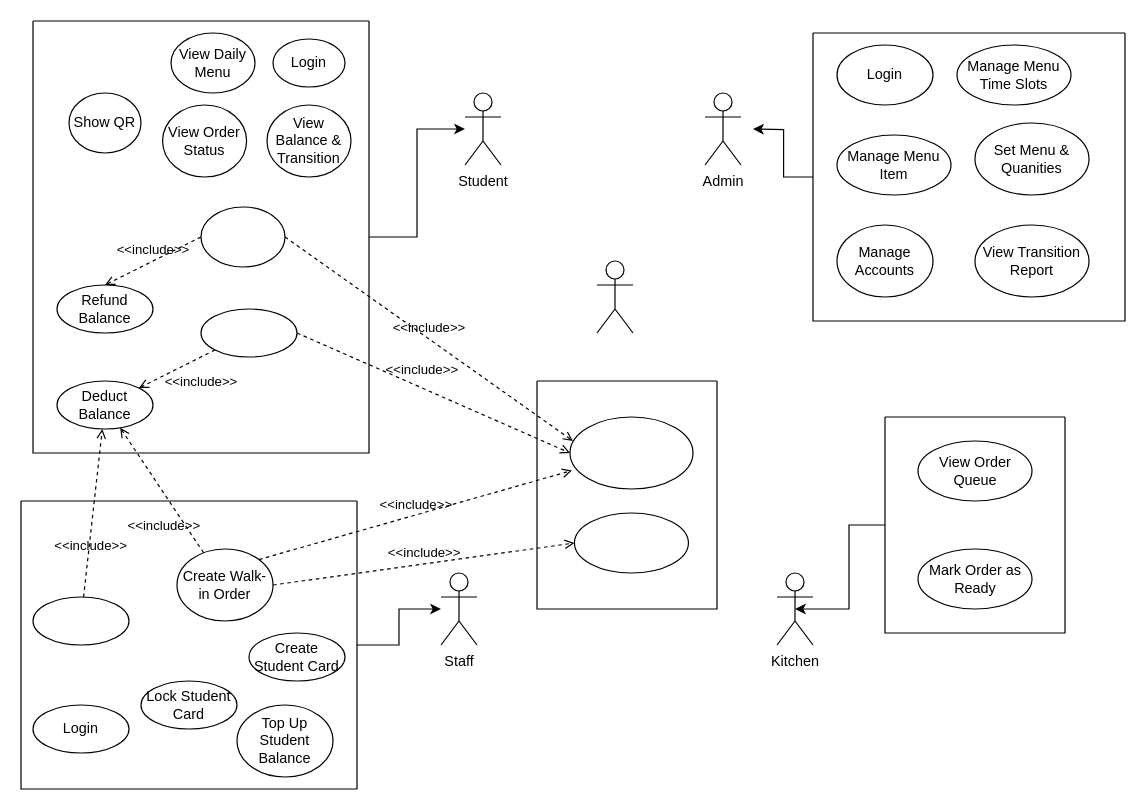
Some shapes in this 1146 by 810 pixel diagram are drawn without their labels. The shapes that lost their labels are listed below. From the top down, each one's box as (x1, y1, x2, y2) in pixels, then its label:
(200, 206, 285, 267): Cancle Pre-Order
(596, 260, 633, 333): System
(200, 308, 297, 357): Place Pre-Order
(569, 416, 693, 489): Append Transion Record
(573, 512, 688, 573): Enforce Balance
(32, 596, 129, 645): Confirm Pre-Order
